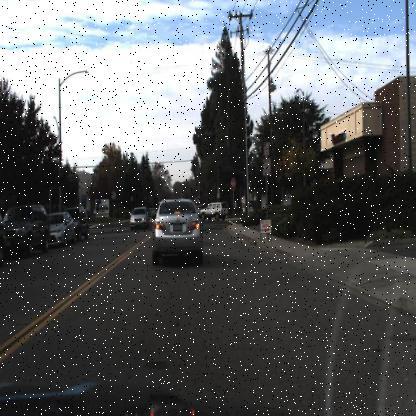car: (150, 198, 202, 269), (2, 203, 51, 258), (47, 210, 76, 247), (74, 205, 93, 242), (127, 204, 148, 233), (199, 200, 228, 221)
